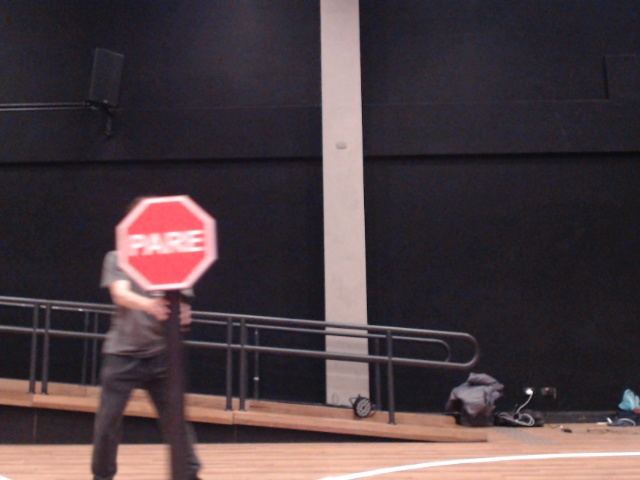SEMAFORO: (103, 182, 247, 314)
